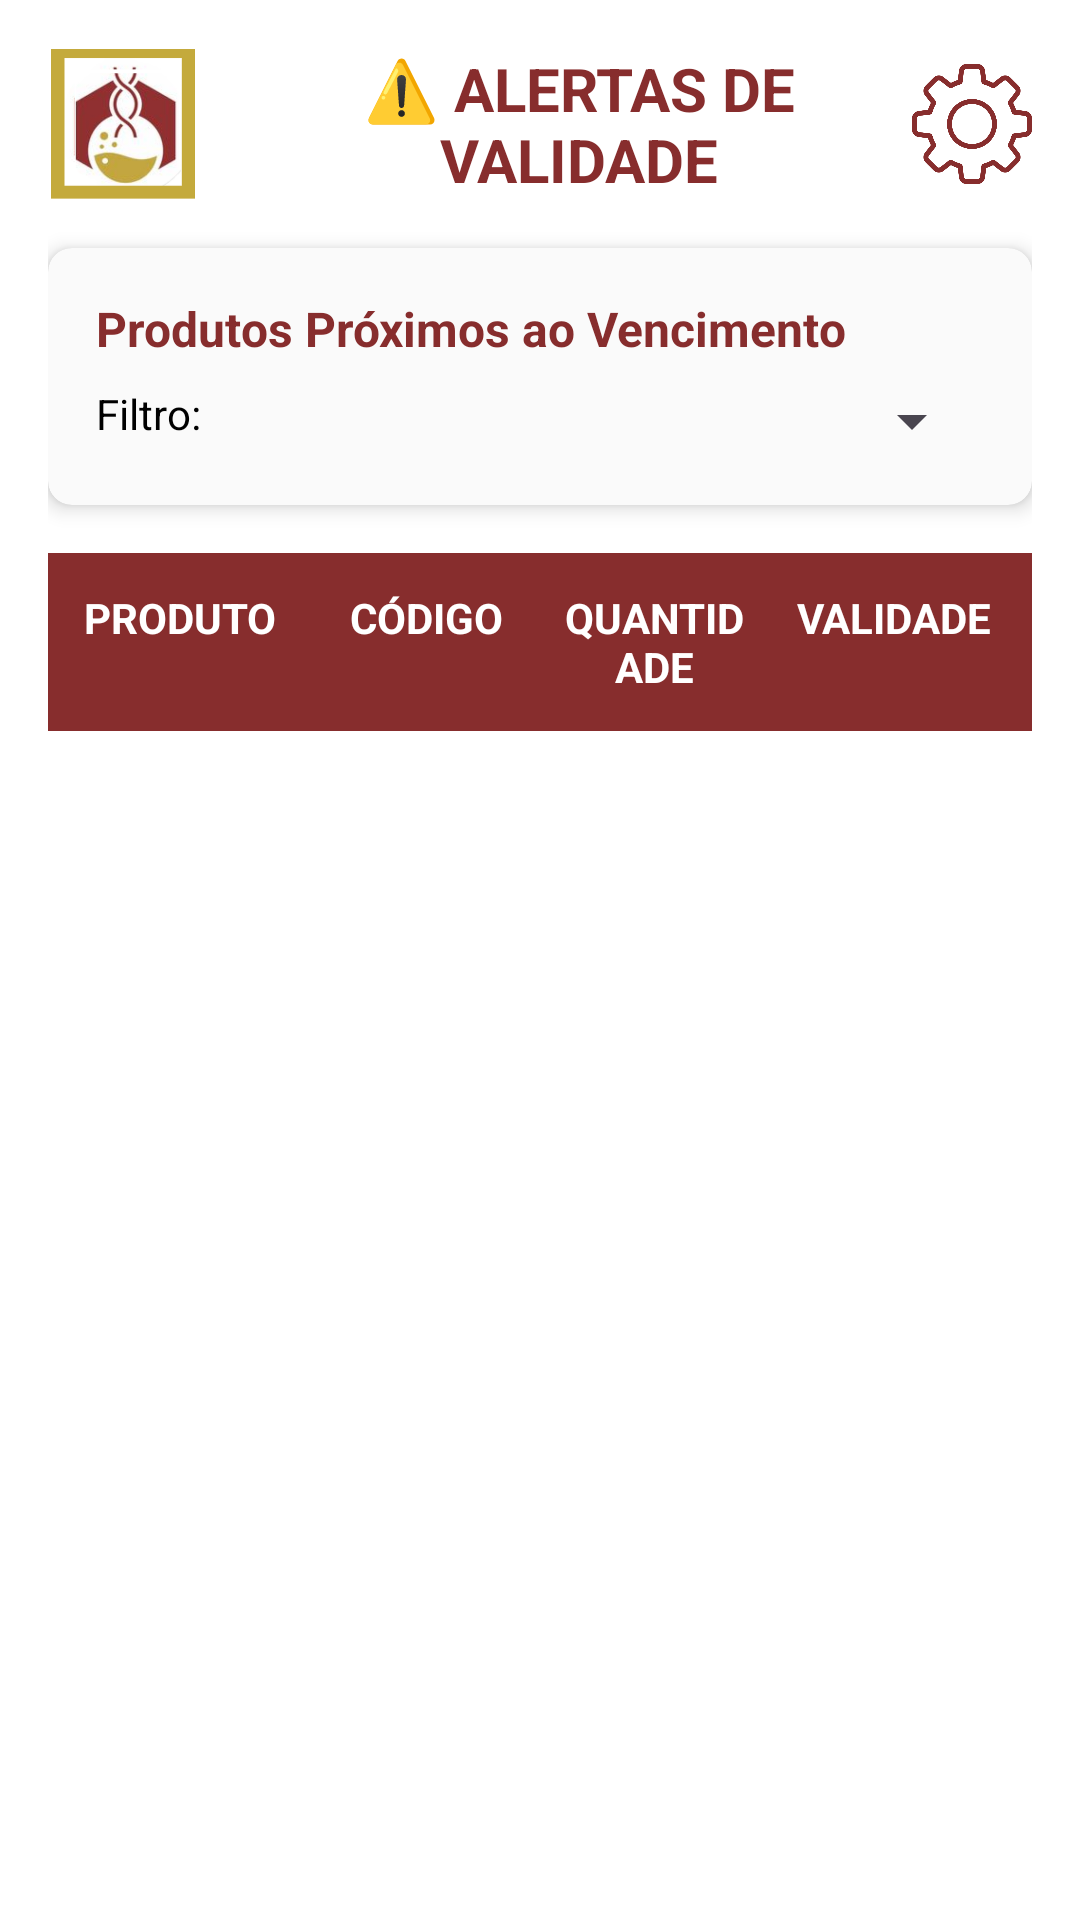

Locate icon controls on the screen. Image size 1080×1920, boxes as (x1, y1, x2, y2).
config: (912, 64, 1032, 184)
